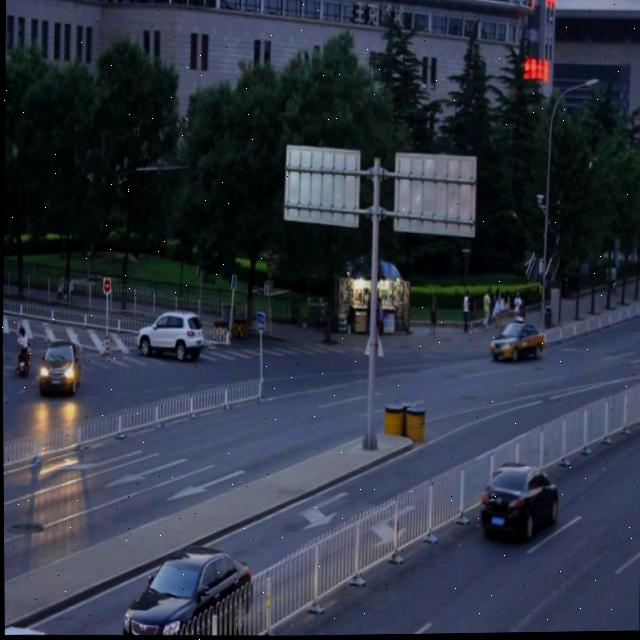car: (117, 544, 254, 637), (480, 463, 556, 539), (135, 308, 203, 361), (488, 319, 542, 365), (37, 338, 80, 395), (4, 619, 89, 636)
